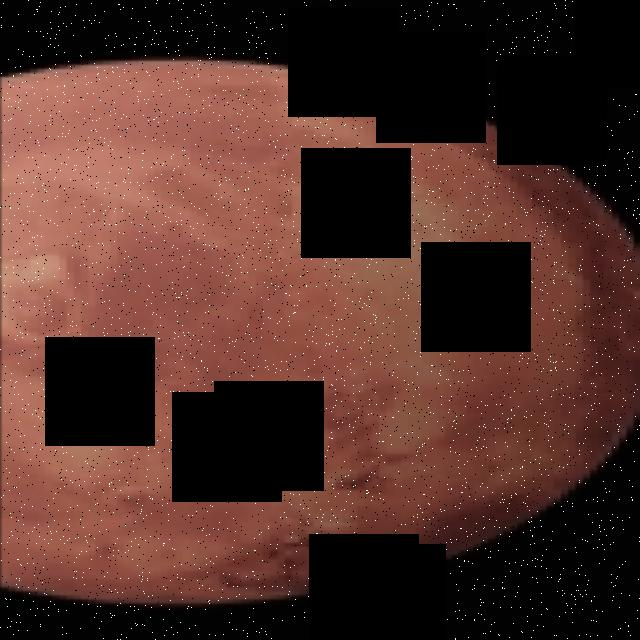Mars: (0, 57, 640, 608)
